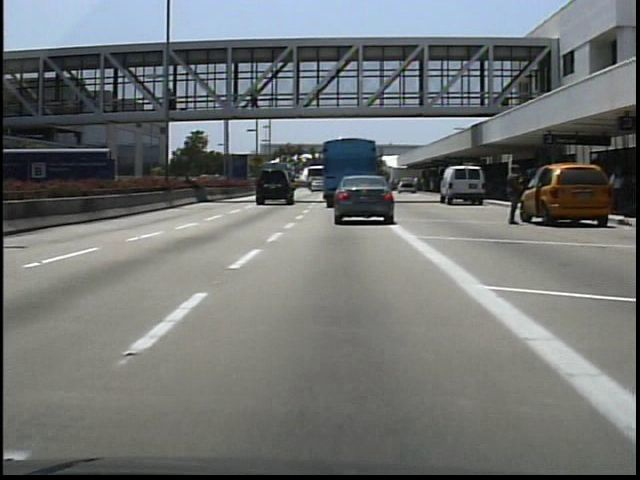person: (503, 163, 529, 226), (248, 85, 263, 116), (165, 86, 181, 113)
